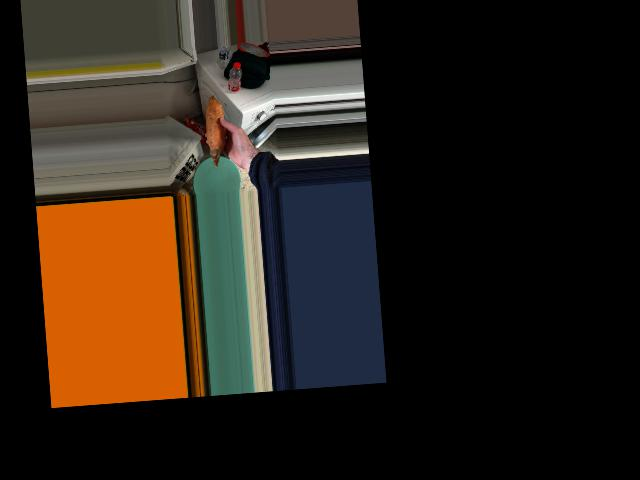sweet_potato: (205, 97, 225, 158)
